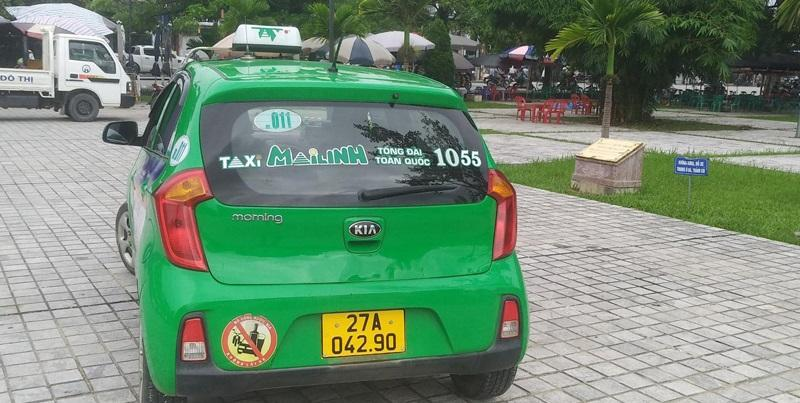numplate: (317, 304, 406, 357)
